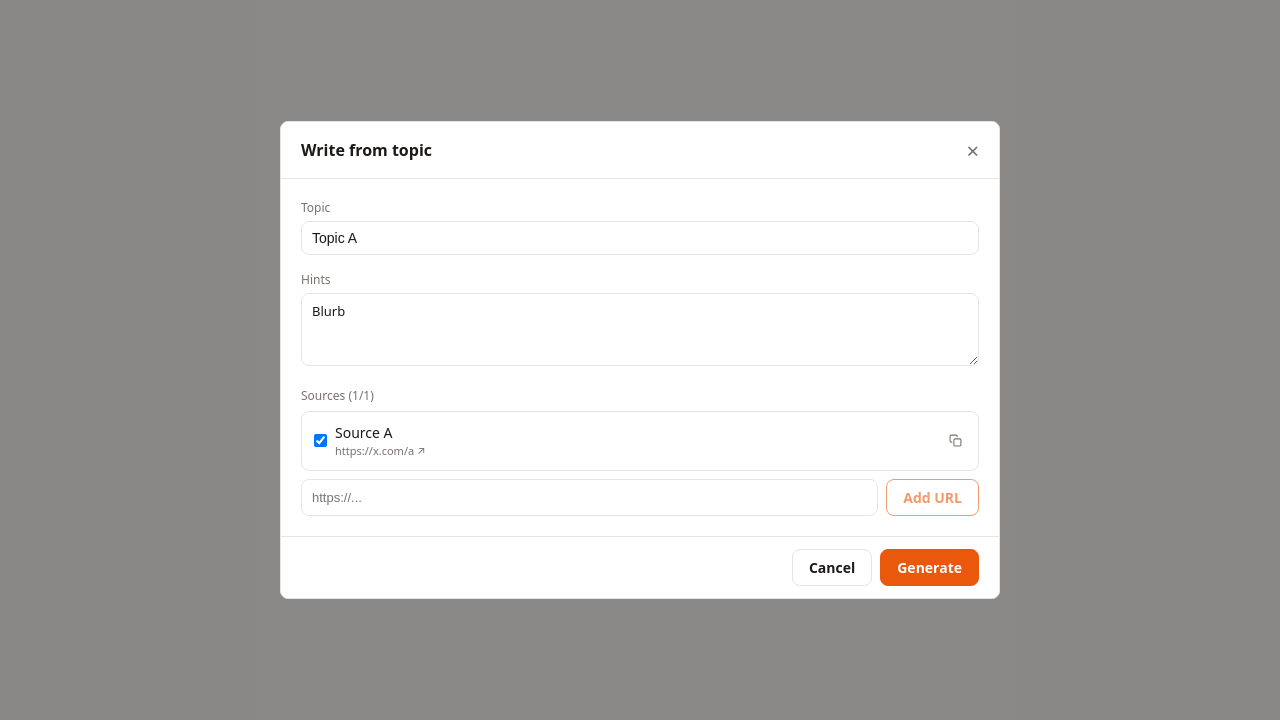
Scenario: WriteFromTopicDialog › surfaces submit errors in a banner
Expected: the field showing "Topic A" is shown, [301,222,979,256]
What coordinates should you click on to do the following:
click the button "Generate"
I would click on:
 (930, 567)
Its box is [880,548,979,586].
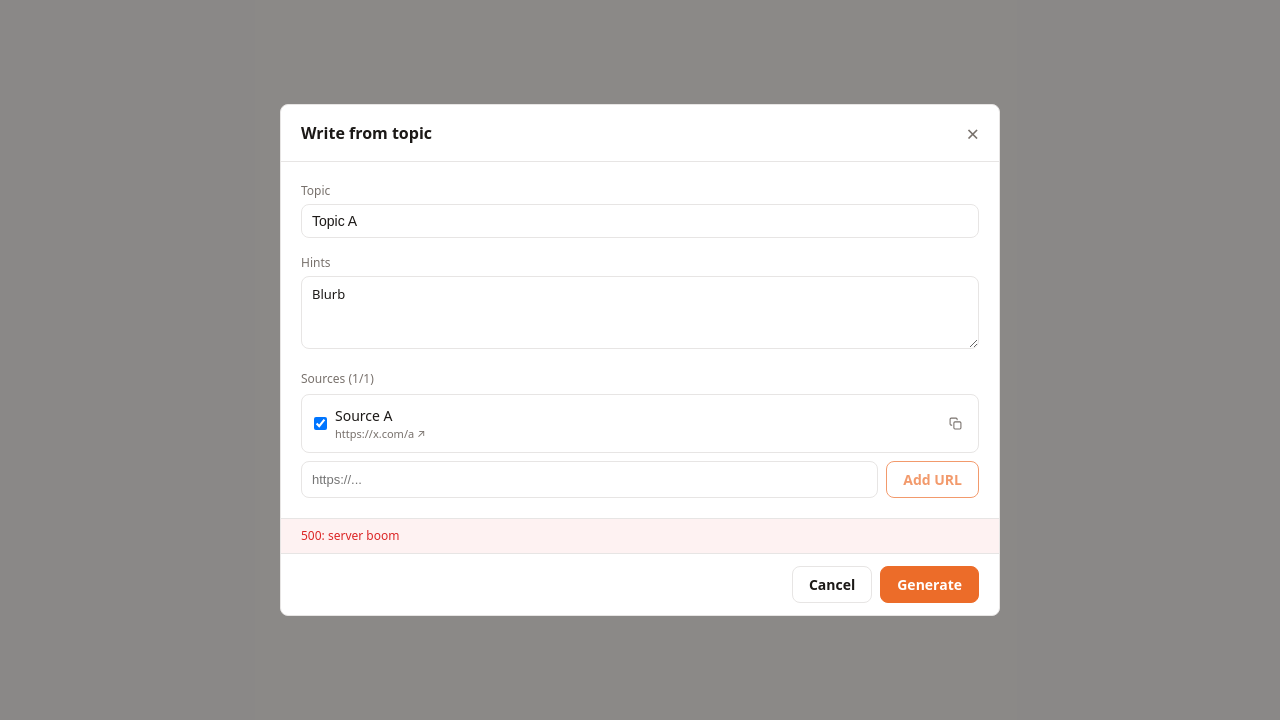
Expected: the text "500: server boom" is shown, [281,518,999,553]
